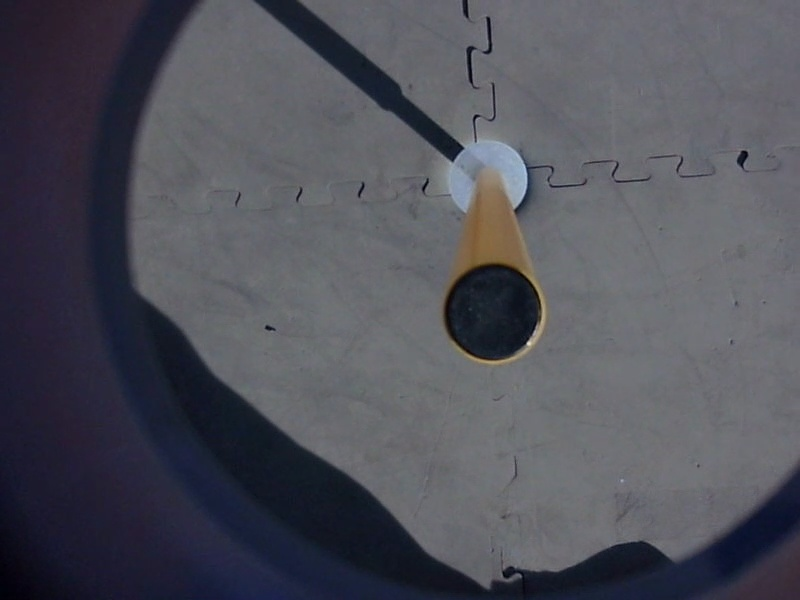tip: (437, 258, 550, 370)
